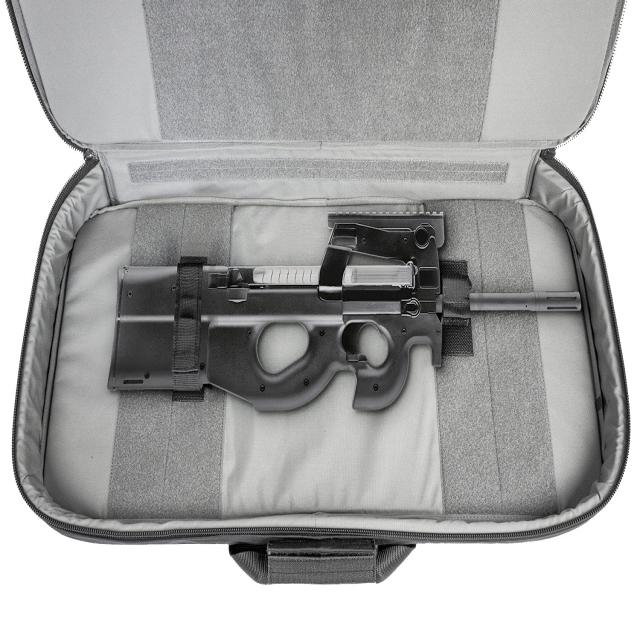Gun: (99, 224, 588, 433)
